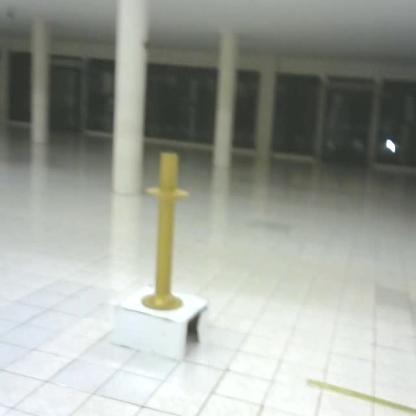pole: (142, 148, 193, 317)
